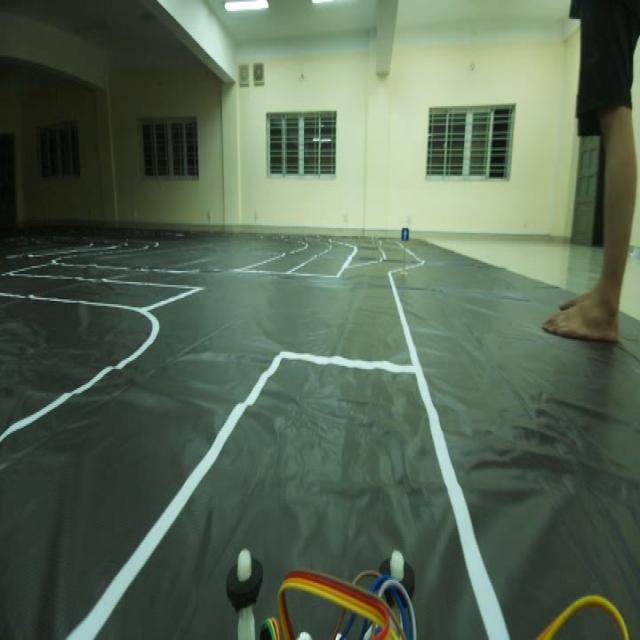onewayroad: (398, 223, 412, 241)
